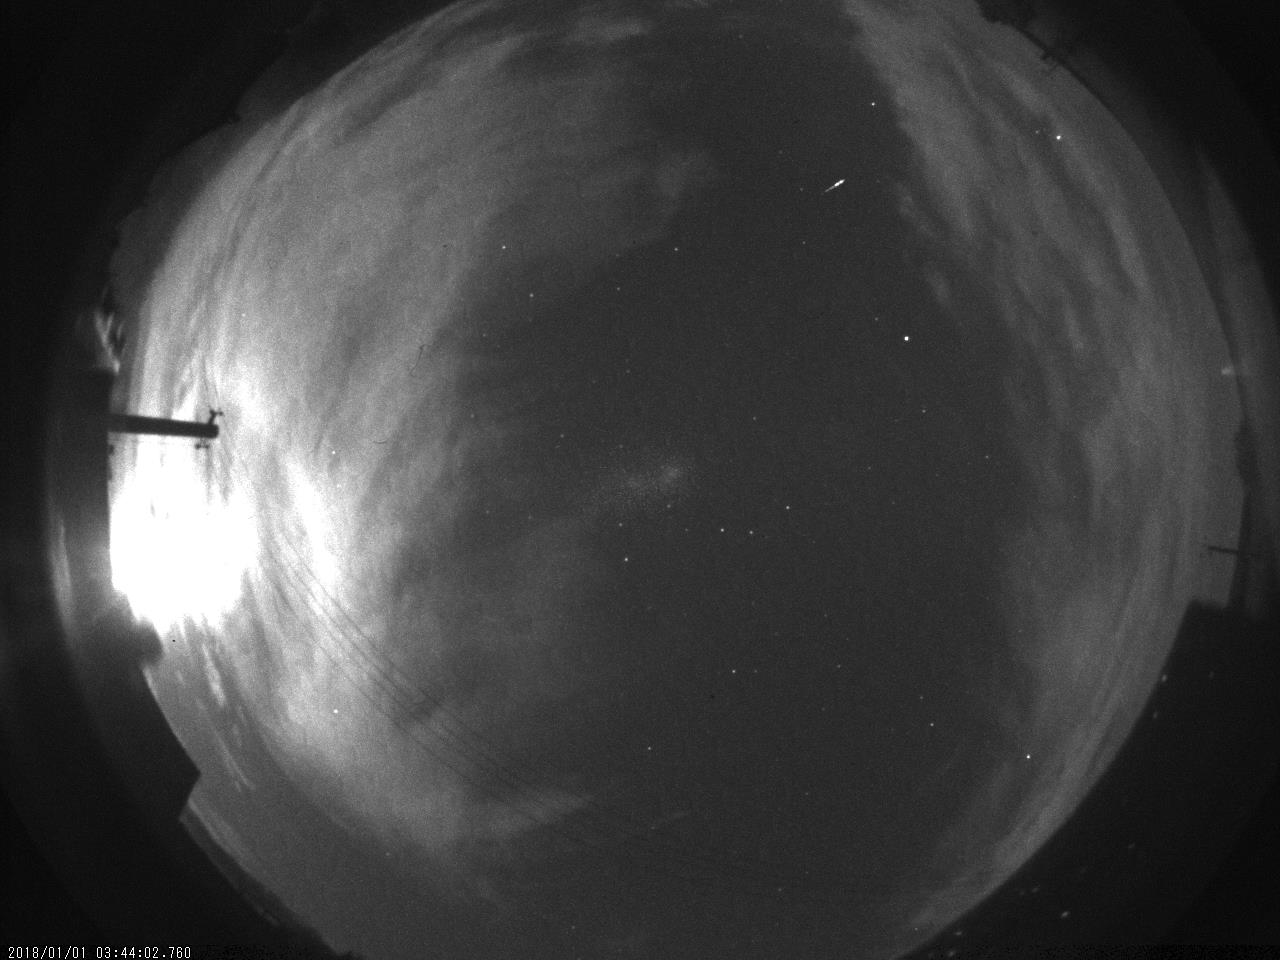meteor: (810, 170, 879, 217)
